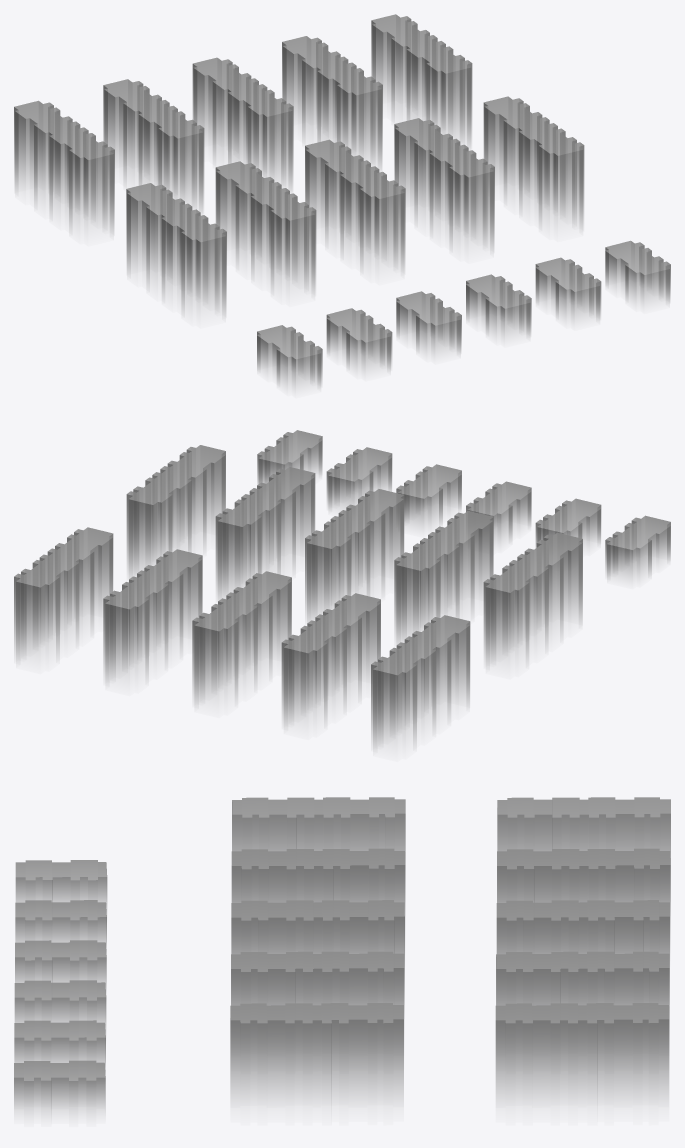
File: 实景氛围建筑_001.glb
The picture shows the model from 3 angles, top to bottom: view 1: azimuth 30°, elevation 25°; view 2: azimuth 150°, elevation 25°; view 3: azimuth 270°, elevation 25°; orthographic projection. The views are drawn at different scales.
Visible parts, largest first — view 1: 实景氛围建筑_001; view 2: 实景氛围建筑_001; view 3: 实景氛围建筑_001.
Part boxes in pixels (<box>): 实景氛围建筑_001: <box>14,14,670,388</box>; 实景氛围建筑_001: <box>14,430,670,749</box>; 实景氛围建筑_001: <box>14,797,670,1117</box>.
Size of the model in its own units: 104 by 23.74 by 128.
Materials: 1 (1 with a texture image).
